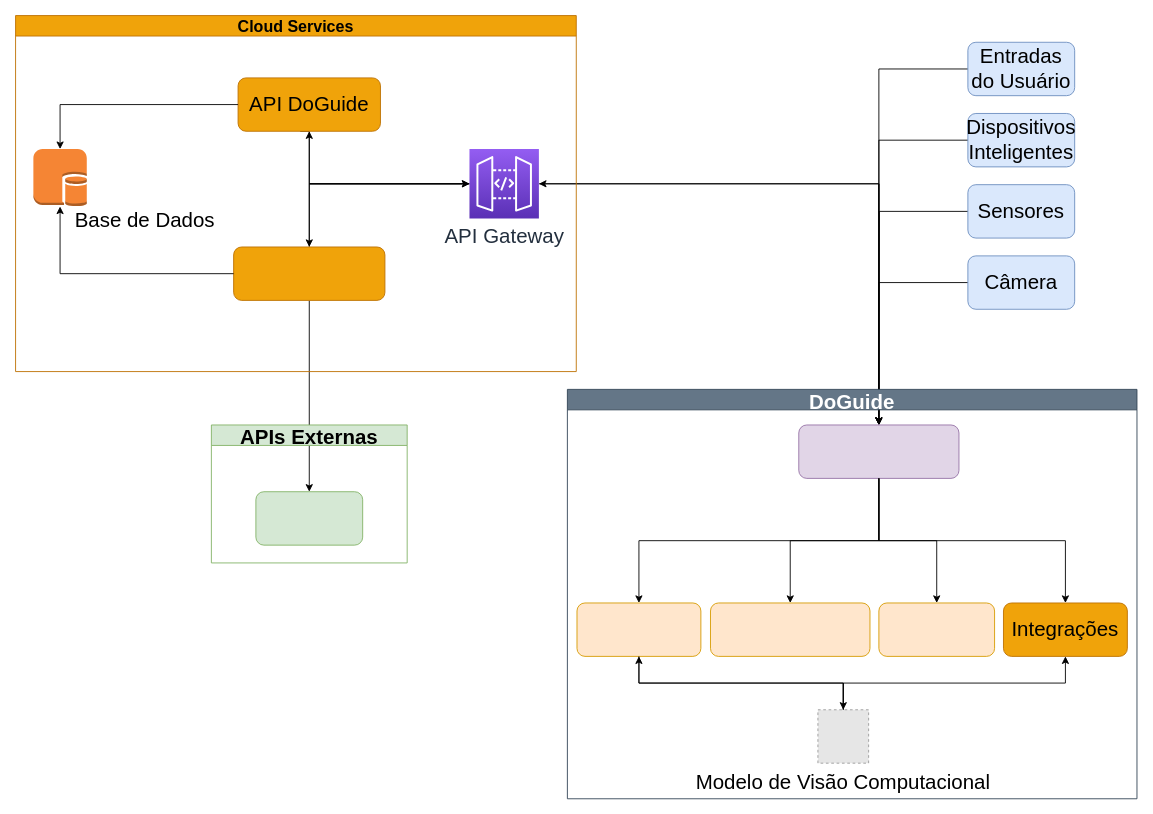
The diagram is 1153 pixels wide and 814 high, and some of its shapes have lost their labels. Grey dashed boxes stand in for pictures. Each missing label, with the centre of its shape:
"API de Geolocalização" belongs at (x=309, y=273).
"Direção" belongs at (x=638, y=629).
"Gateway Central / Data Backbone" belongs at (x=878, y=451).
"Mobility as a Service" belongs at (x=309, y=518).
"Rotas" belongs at (x=936, y=629).
"Status/Feedback" belongs at (x=790, y=629).
